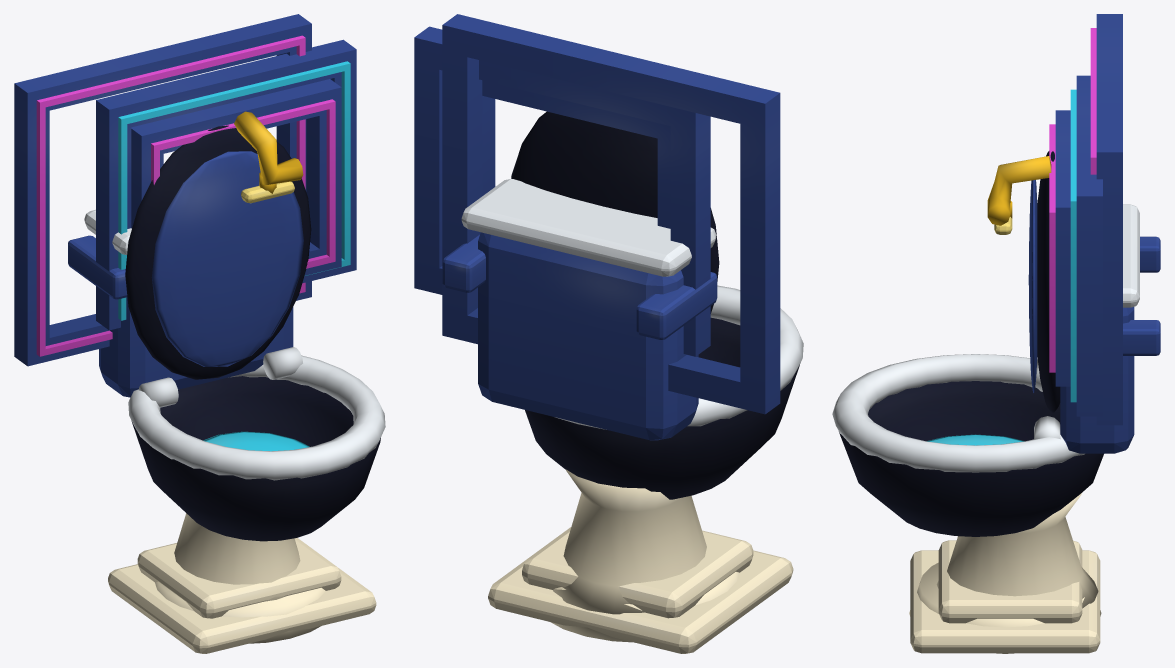
The model's file is ParadoxPotty.fbx.
3 renders of one model, left to right at view 1: azimuth 30°, elevation 25°; view 2: azimuth 150°, elevation 25°; view 3: azimuth 270°, elevation 25°, orthographic. The views are drawn at different scales.
Parts seen in each view (by area): view 1: ParadoxPotty; view 2: ParadoxPotty; view 3: ParadoxPotty.
Boxes of the visible parts, bbox=[...] form: ParadoxPotty: bbox=[14, 14, 385, 653]; ParadoxPotty: bbox=[414, 14, 803, 653]; ParadoxPotty: bbox=[832, 14, 1160, 653].
Bounding box in the file's own units: 3.48 × 5.4 × 3.11.
1 material, 1 textured.
